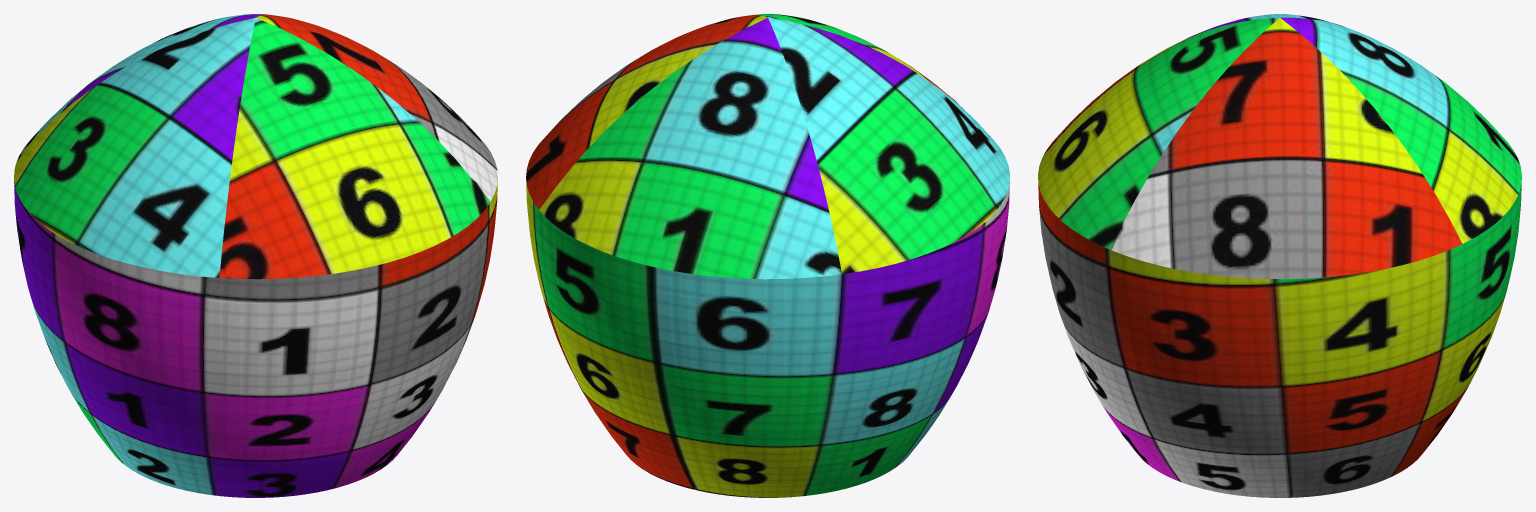
Rendered from ReuleauxPentagon.fbx.
3 renders of one model, left to right at view 1: azimuth 30°, elevation 25°; view 2: azimuth 150°, elevation 25°; view 3: azimuth 270°, elevation 25°, orthographic.
Visible parts, largest first — view 1: RevolvedReuleauxPentagon:STL_BINARY_; view 2: RevolvedReuleauxPentagon:STL_BINARY_; view 3: RevolvedReuleauxPentagon:STL_BINARY_.
Boxes of the visible parts, x1,y1,x2,y2 form: RevolvedReuleauxPentagon:STL_BINARY_: (14, 14, 497, 497); RevolvedReuleauxPentagon:STL_BINARY_: (526, 14, 1009, 497); RevolvedReuleauxPentagon:STL_BINARY_: (1038, 14, 1521, 497).
Size of the model in its own units: 34.99 by 35 by 34.99.
Materials: 1 (1 with a texture image).
